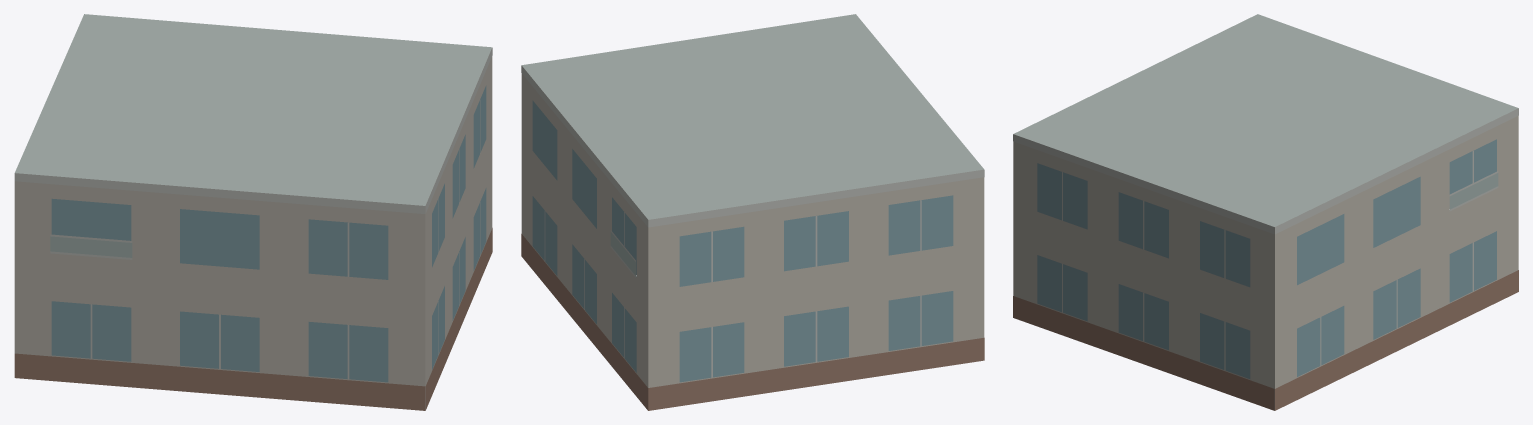
The model's file is survey-upis-32878907.glb.
The picture shows the model from 3 angles, left to right: view 1: azimuth 30°, elevation 25°; view 2: azimuth 150°, elevation 25°; view 3: azimuth 270°, elevation 25°; orthographic projection. The views are drawn at different scales.
Parts seen in each view (by area): view 1: survey-upis-32878907.tmp; view 2: survey-upis-32878907.tmp; view 3: survey-upis-32878907.tmp.
Boxes of the visible parts, x1,y1,x2,y2 form: survey-upis-32878907.tmp: (14,14,492,410); survey-upis-32878907.tmp: (521,14,984,410); survey-upis-32878907.tmp: (1013,14,1518,410).
Size of the model in its own units: 15.19 by 6.1 by 15.23.
